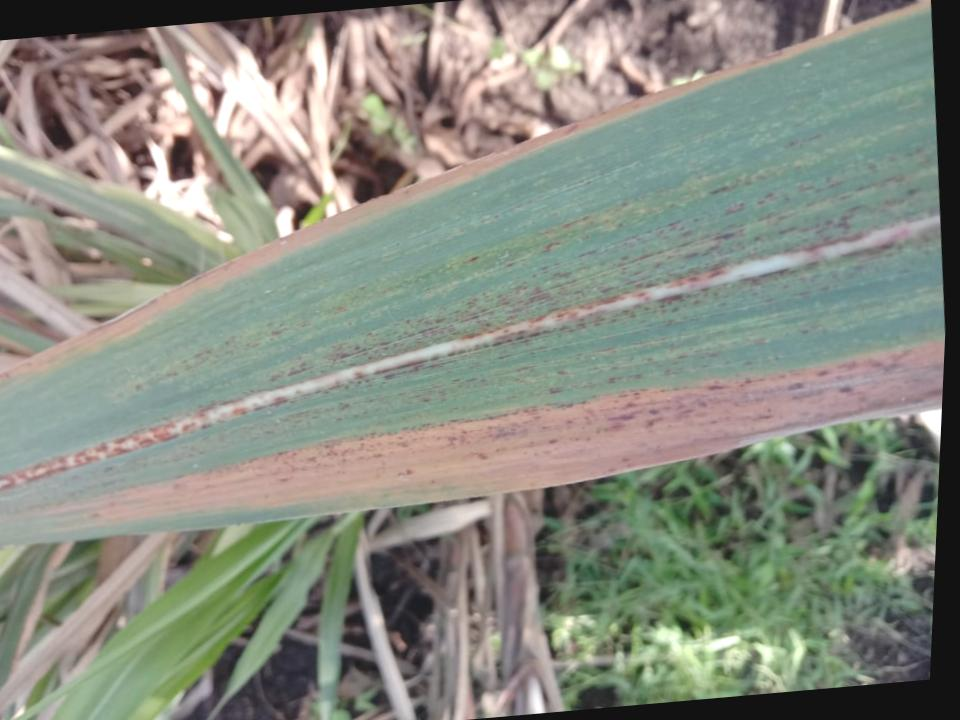RedRot: (0, 390, 289, 492), (456, 289, 658, 344), (793, 228, 910, 262), (665, 267, 731, 291)
Rust: (107, 131, 934, 426), (298, 227, 940, 400), (237, 341, 943, 487), (242, 322, 833, 438)
Yellow: (0, 0, 930, 411), (0, 334, 944, 546)
